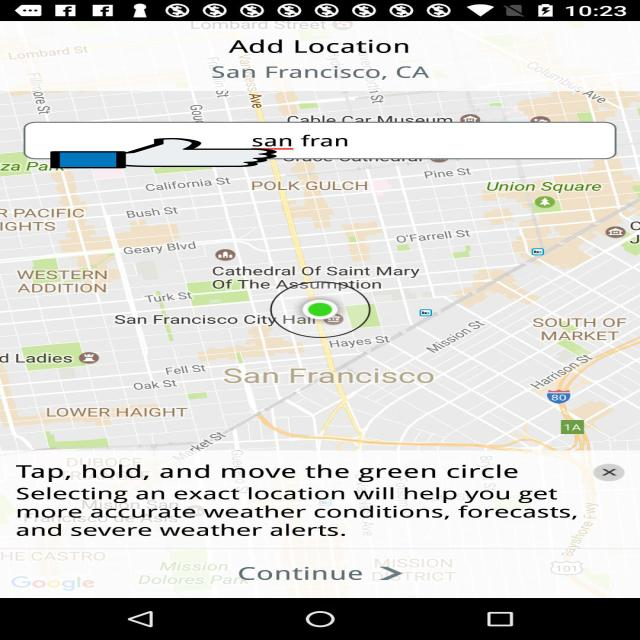privacy zuckering: (50, 137, 277, 169)
